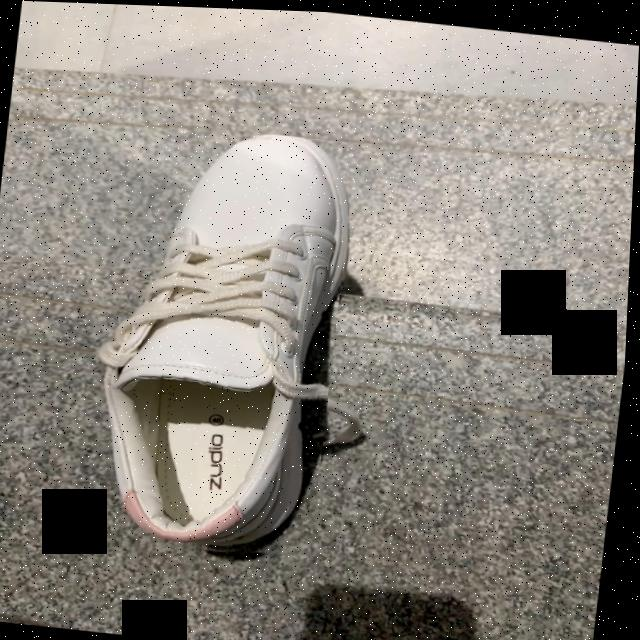shoe: (105, 128, 348, 550)
